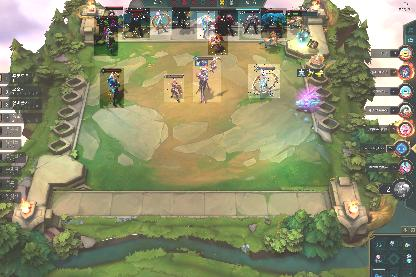1_braum: (218, 10, 238, 36)
1_joy: (208, 21, 228, 55)
1_leesin: (197, 11, 215, 39)
1_qiyana: (150, 9, 172, 35)
1_rakan: (164, 74, 184, 102)
1_rengar: (124, 8, 150, 38)
1_seraphine: (260, 26, 284, 52), (288, 10, 302, 28)
1_swain: (172, 7, 190, 29)
1_sylas: (240, 11, 262, 35)
1_vladimir: (105, 6, 123, 32)
1_zac: (261, 8, 287, 38)
2_leesin: (100, 68, 124, 108)
2_lillia: (193, 56, 221, 102)
2_lux: (94, 16, 118, 56)
2_qiyana: (248, 64, 280, 98)
